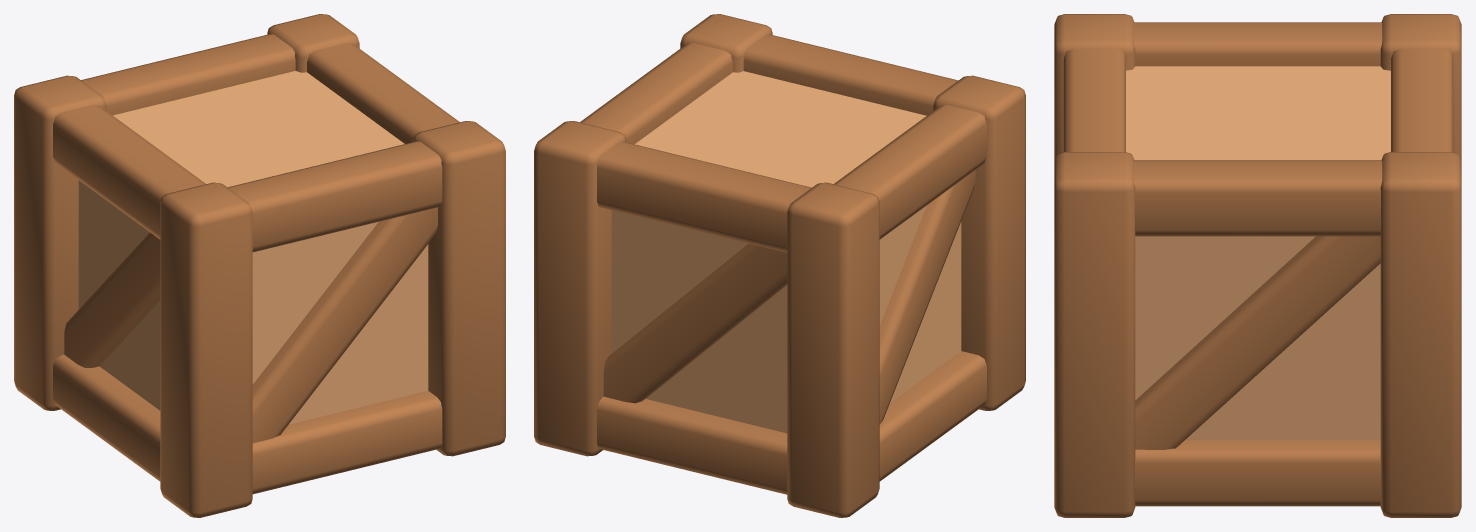
File: Wooden_Box_01.fbx
3 views of the same model, side by side, from view 1: azimuth 30°, elevation 25°; view 2: azimuth 150°, elevation 25°; view 3: azimuth 270°, elevation 25° (orthographic). The views are drawn at different scales.
Visible parts, largest first — view 1: Wooden_Box_01; view 2: Wooden_Box_01; view 3: Wooden_Box_01.
Part boxes in pixels (x1,y1,x2,y2): Wooden_Box_01: [14, 14, 505, 517]; Wooden_Box_01: [534, 14, 1025, 517]; Wooden_Box_01: [1054, 14, 1461, 517].
Bounding box in the file's own units: 604 × 554 × 604.
